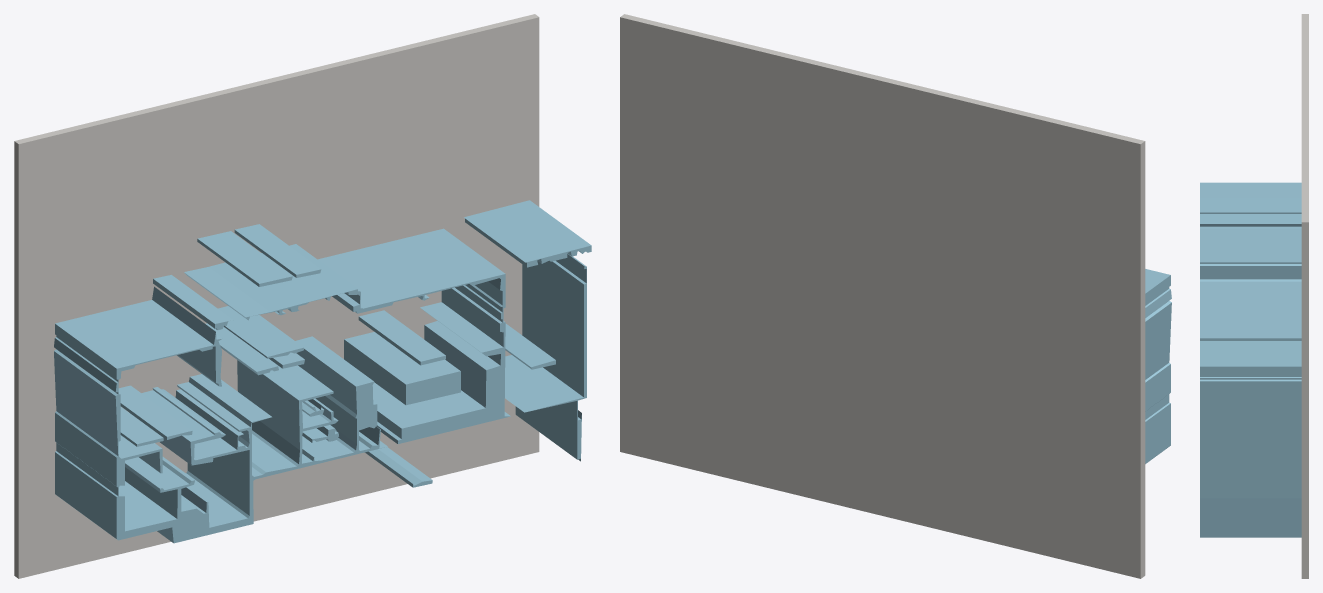
3 views of the same model, side by side, from view 1: azimuth 30°, elevation 25°; view 2: azimuth 150°, elevation 25°; view 3: azimuth 270°, elevation 25° (orthographic). The views are drawn at different scales.
Visible parts, largest first — view 1: world; view 2: world; view 3: world.
Part boxes in pixels (x1,y1,x2,y2): world: (14,14,591,578); world: (620,14,1171,578); world: (1200,14,1308,578).
Size of the model in its own units: 10.23 by 8.16 by 2.26.
